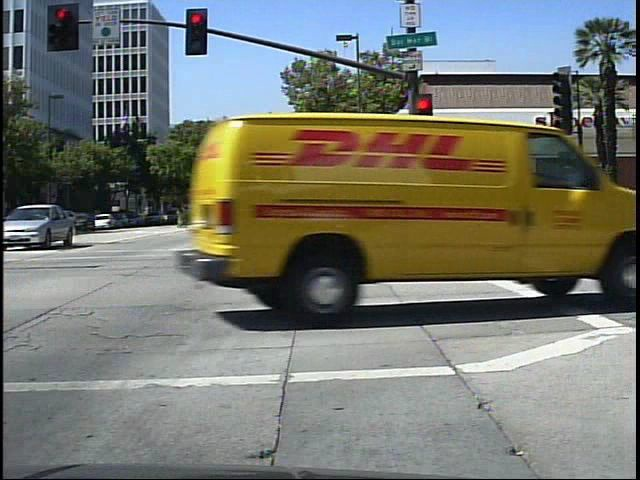person: (282, 204, 295, 222)
